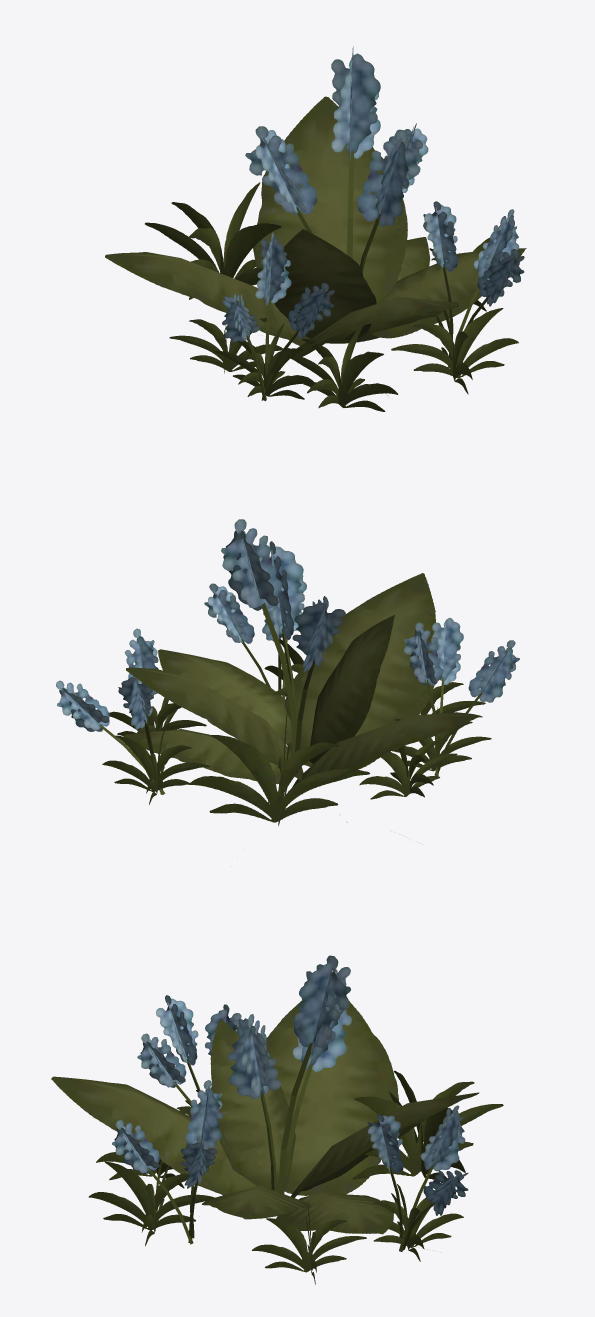
The picture shows the model from 3 angles, top to bottom: view 1: azimuth 30°, elevation 25°; view 2: azimuth 150°, elevation 25°; view 3: azimuth 270°, elevation 25°; orthographic projection. The views are drawn at different scales.
Parts seen in each view (by area): view 1: body0_model0_lod0_mesh0; view 2: body0_model0_lod0_mesh0; view 3: body0_model0_lod0_mesh0.
Boxes of the visible parts, <box> form: body0_model0_lod0_mesh0: <box>105,46,526,411</box>; body0_model0_lod0_mesh0: <box>56,519,519,843</box>; body0_model0_lod0_mesh0: <box>51,955,503,1284</box>.
Bounding box in the file's own units: 69.28 × 50.5 × 74.08.
Materials: 1 (1 with a texture image).
